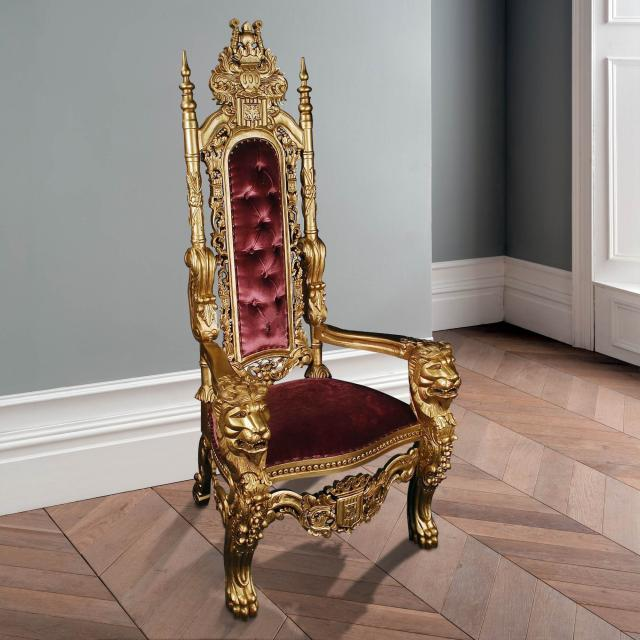chair: (125, 12, 490, 635)
